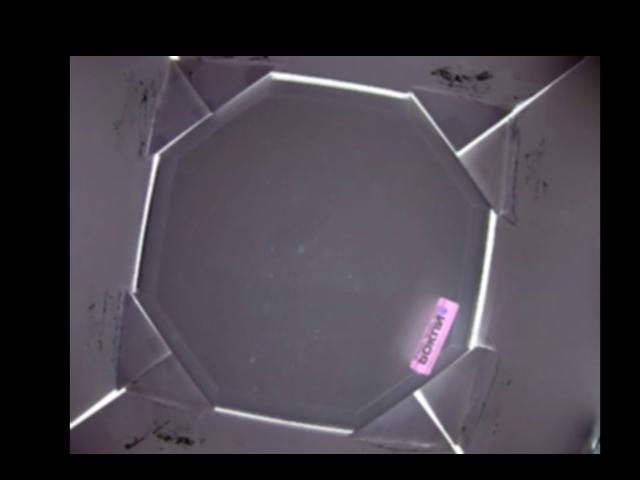Battery: (409, 297, 457, 376)
